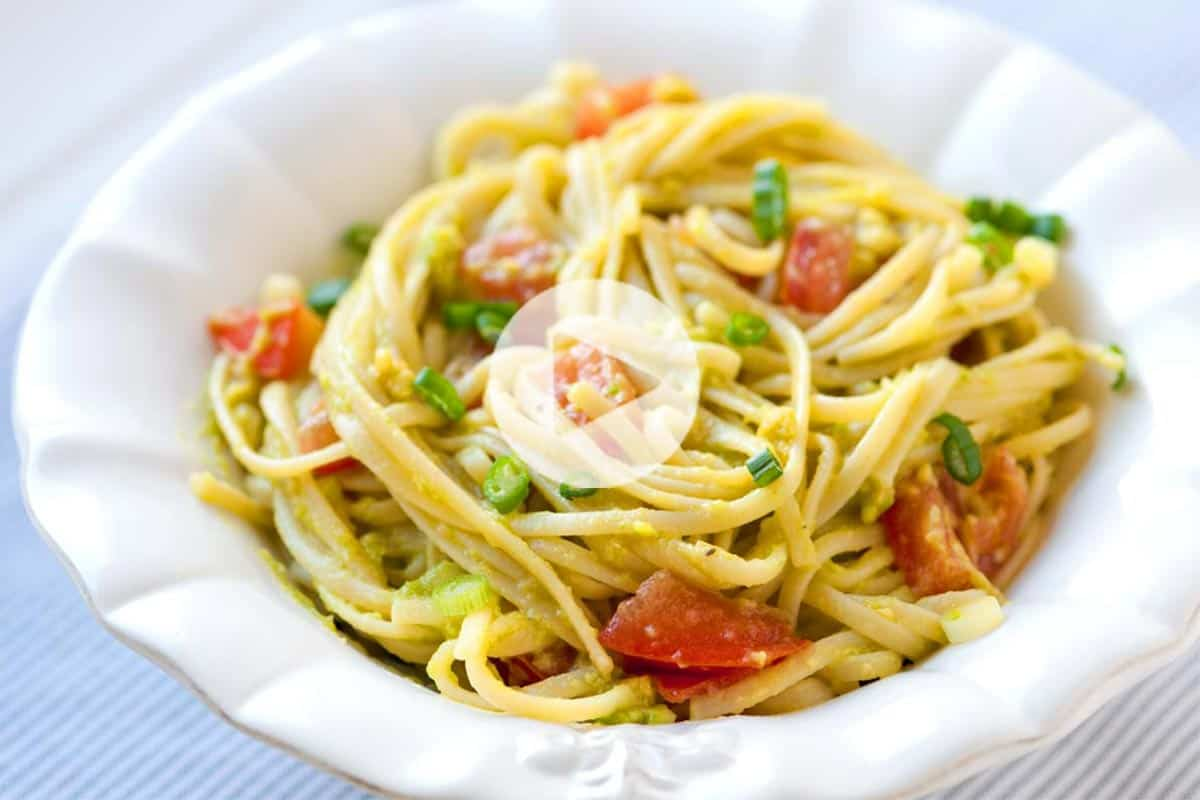plain spaghetti: (335, 163, 1029, 575)
